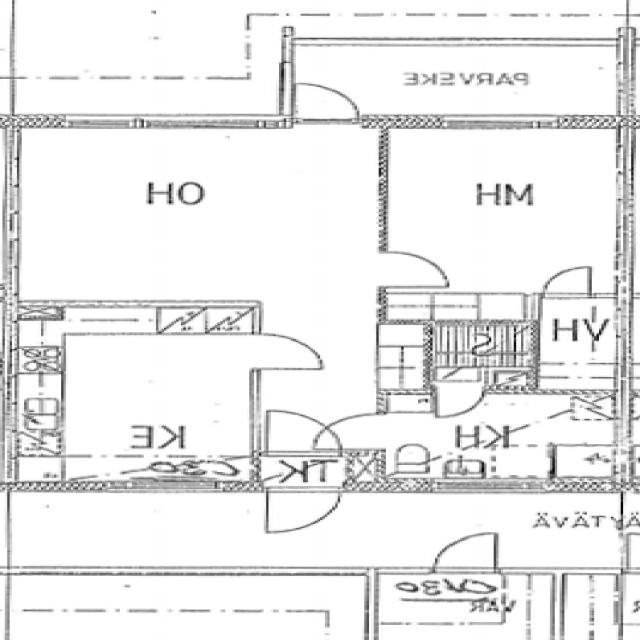door: (269, 483, 340, 534), (268, 410, 341, 457), (296, 79, 358, 124), (315, 414, 386, 450), (376, 252, 447, 288), (436, 534, 497, 575), (250, 335, 319, 369), (436, 387, 483, 422), (544, 266, 590, 298)
